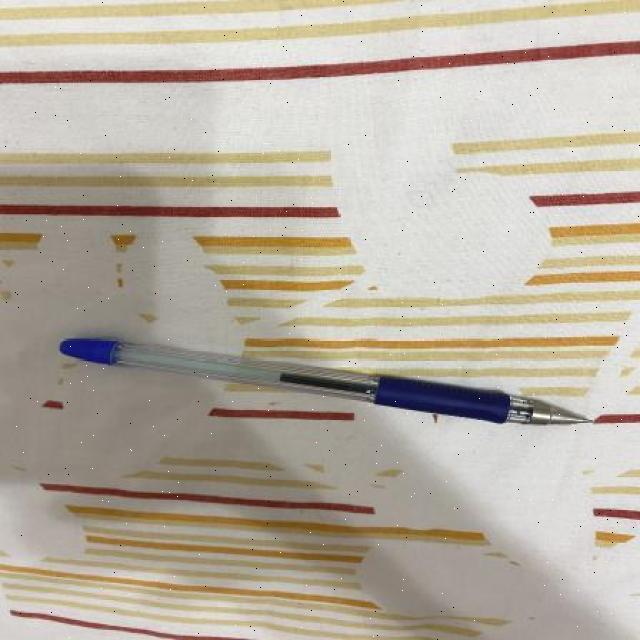pen: (58, 334, 595, 429)
